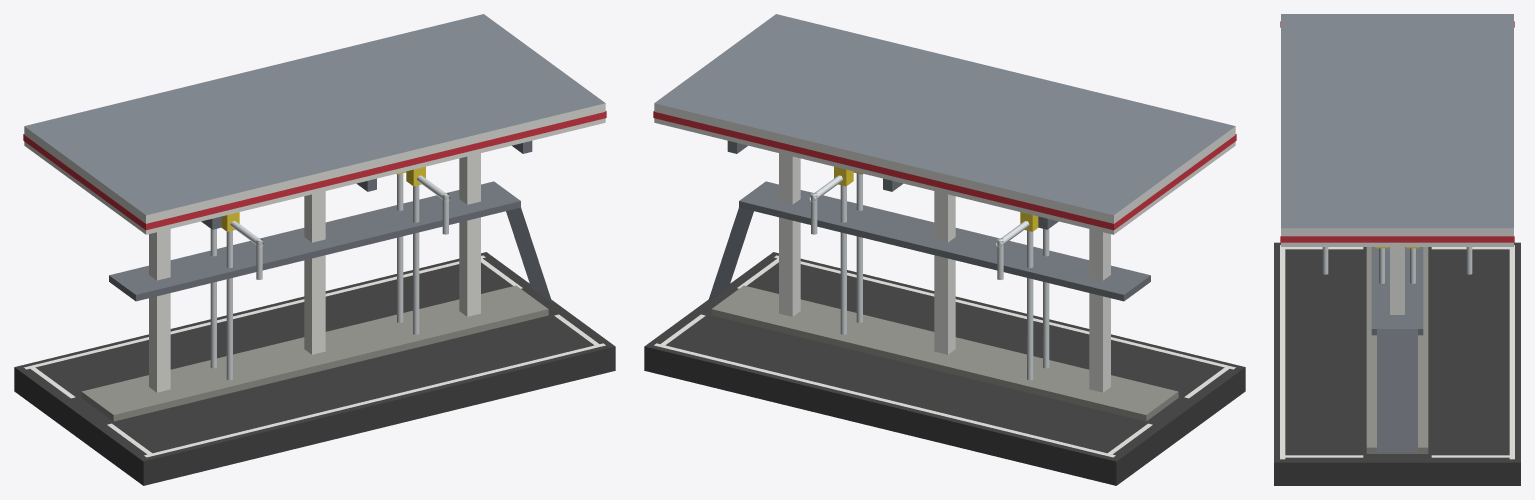
Rendered from mashup-loading-top-prebuilt.fbx.
The picture shows the model from 3 angles, left to right: view 1: azimuth 30°, elevation 25°; view 2: azimuth 150°, elevation 25°; view 3: azimuth 270°, elevation 25°; orthographic projection. The views are drawn at different scales.
Parts seen in each view (by area): view 1: a1018/0/mashup-loading-top-prebuilt; view 2: a1018/0/mashup-loading-top-prebuilt; view 3: a1018/0/mashup-loading-top-prebuilt.
Part boxes in pixels (x1,y1,x2,y2): a1018/0/mashup-loading-top-prebuilt: [14, 14, 615, 485]; a1018/0/mashup-loading-top-prebuilt: [644, 14, 1245, 485]; a1018/0/mashup-loading-top-prebuilt: [1274, 14, 1520, 485].
Bounding box in the file's own units: 15.2 × 8.2 × 7.2.
